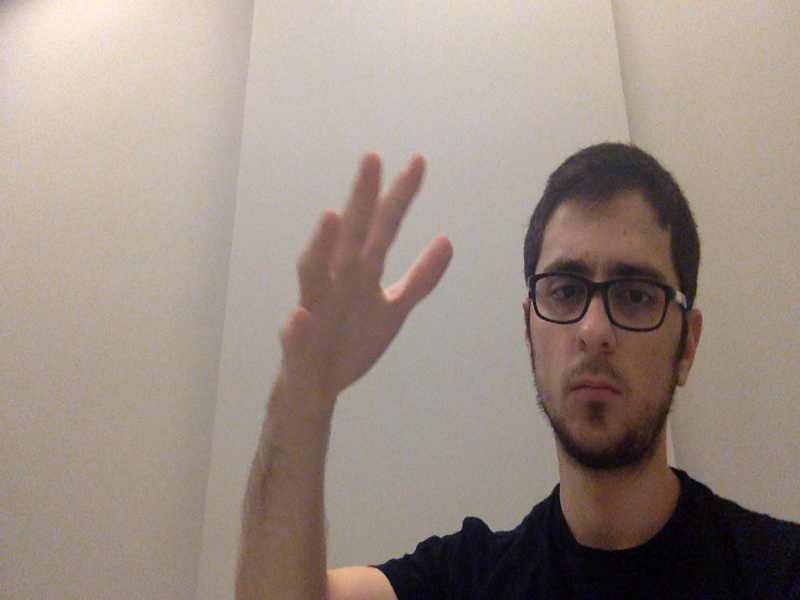5-hand: (277, 144, 459, 411)
